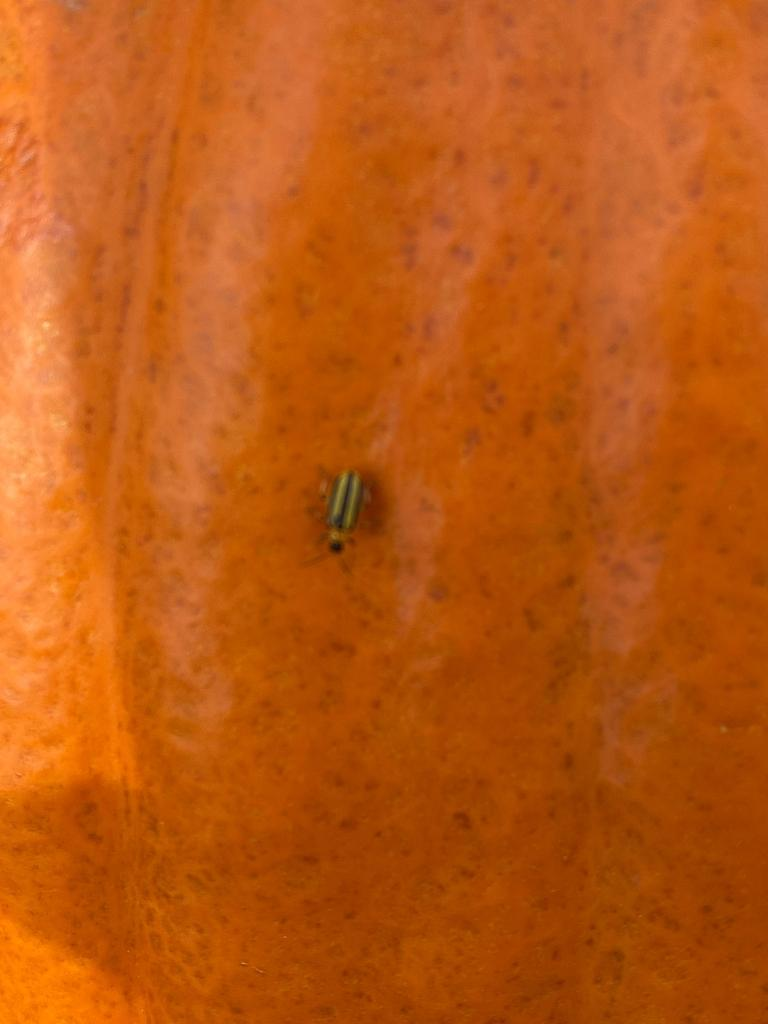potato_beetle: (293, 439, 393, 580)
